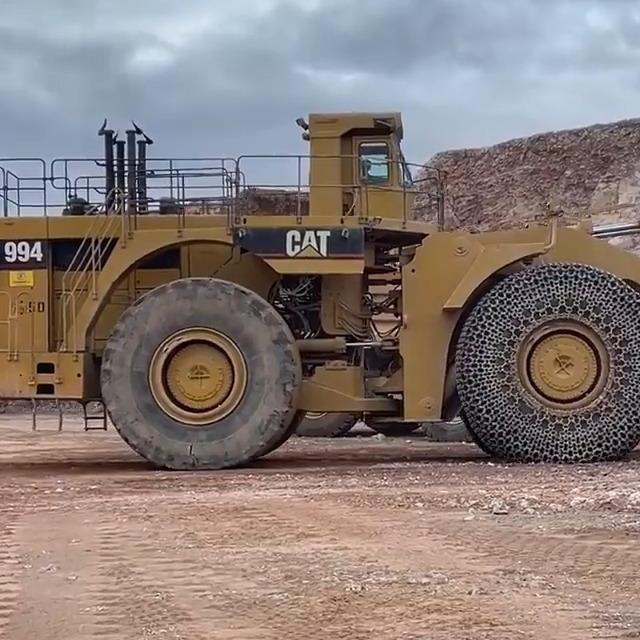Person: (361, 159, 386, 180)
wheel loader: (0, 99, 640, 463)
